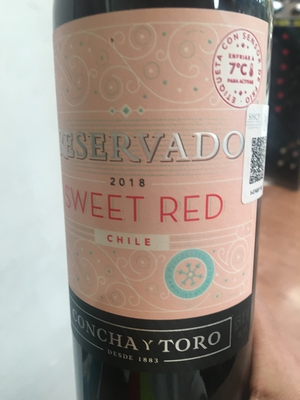reservado sweet red: (51, 7, 274, 398)
